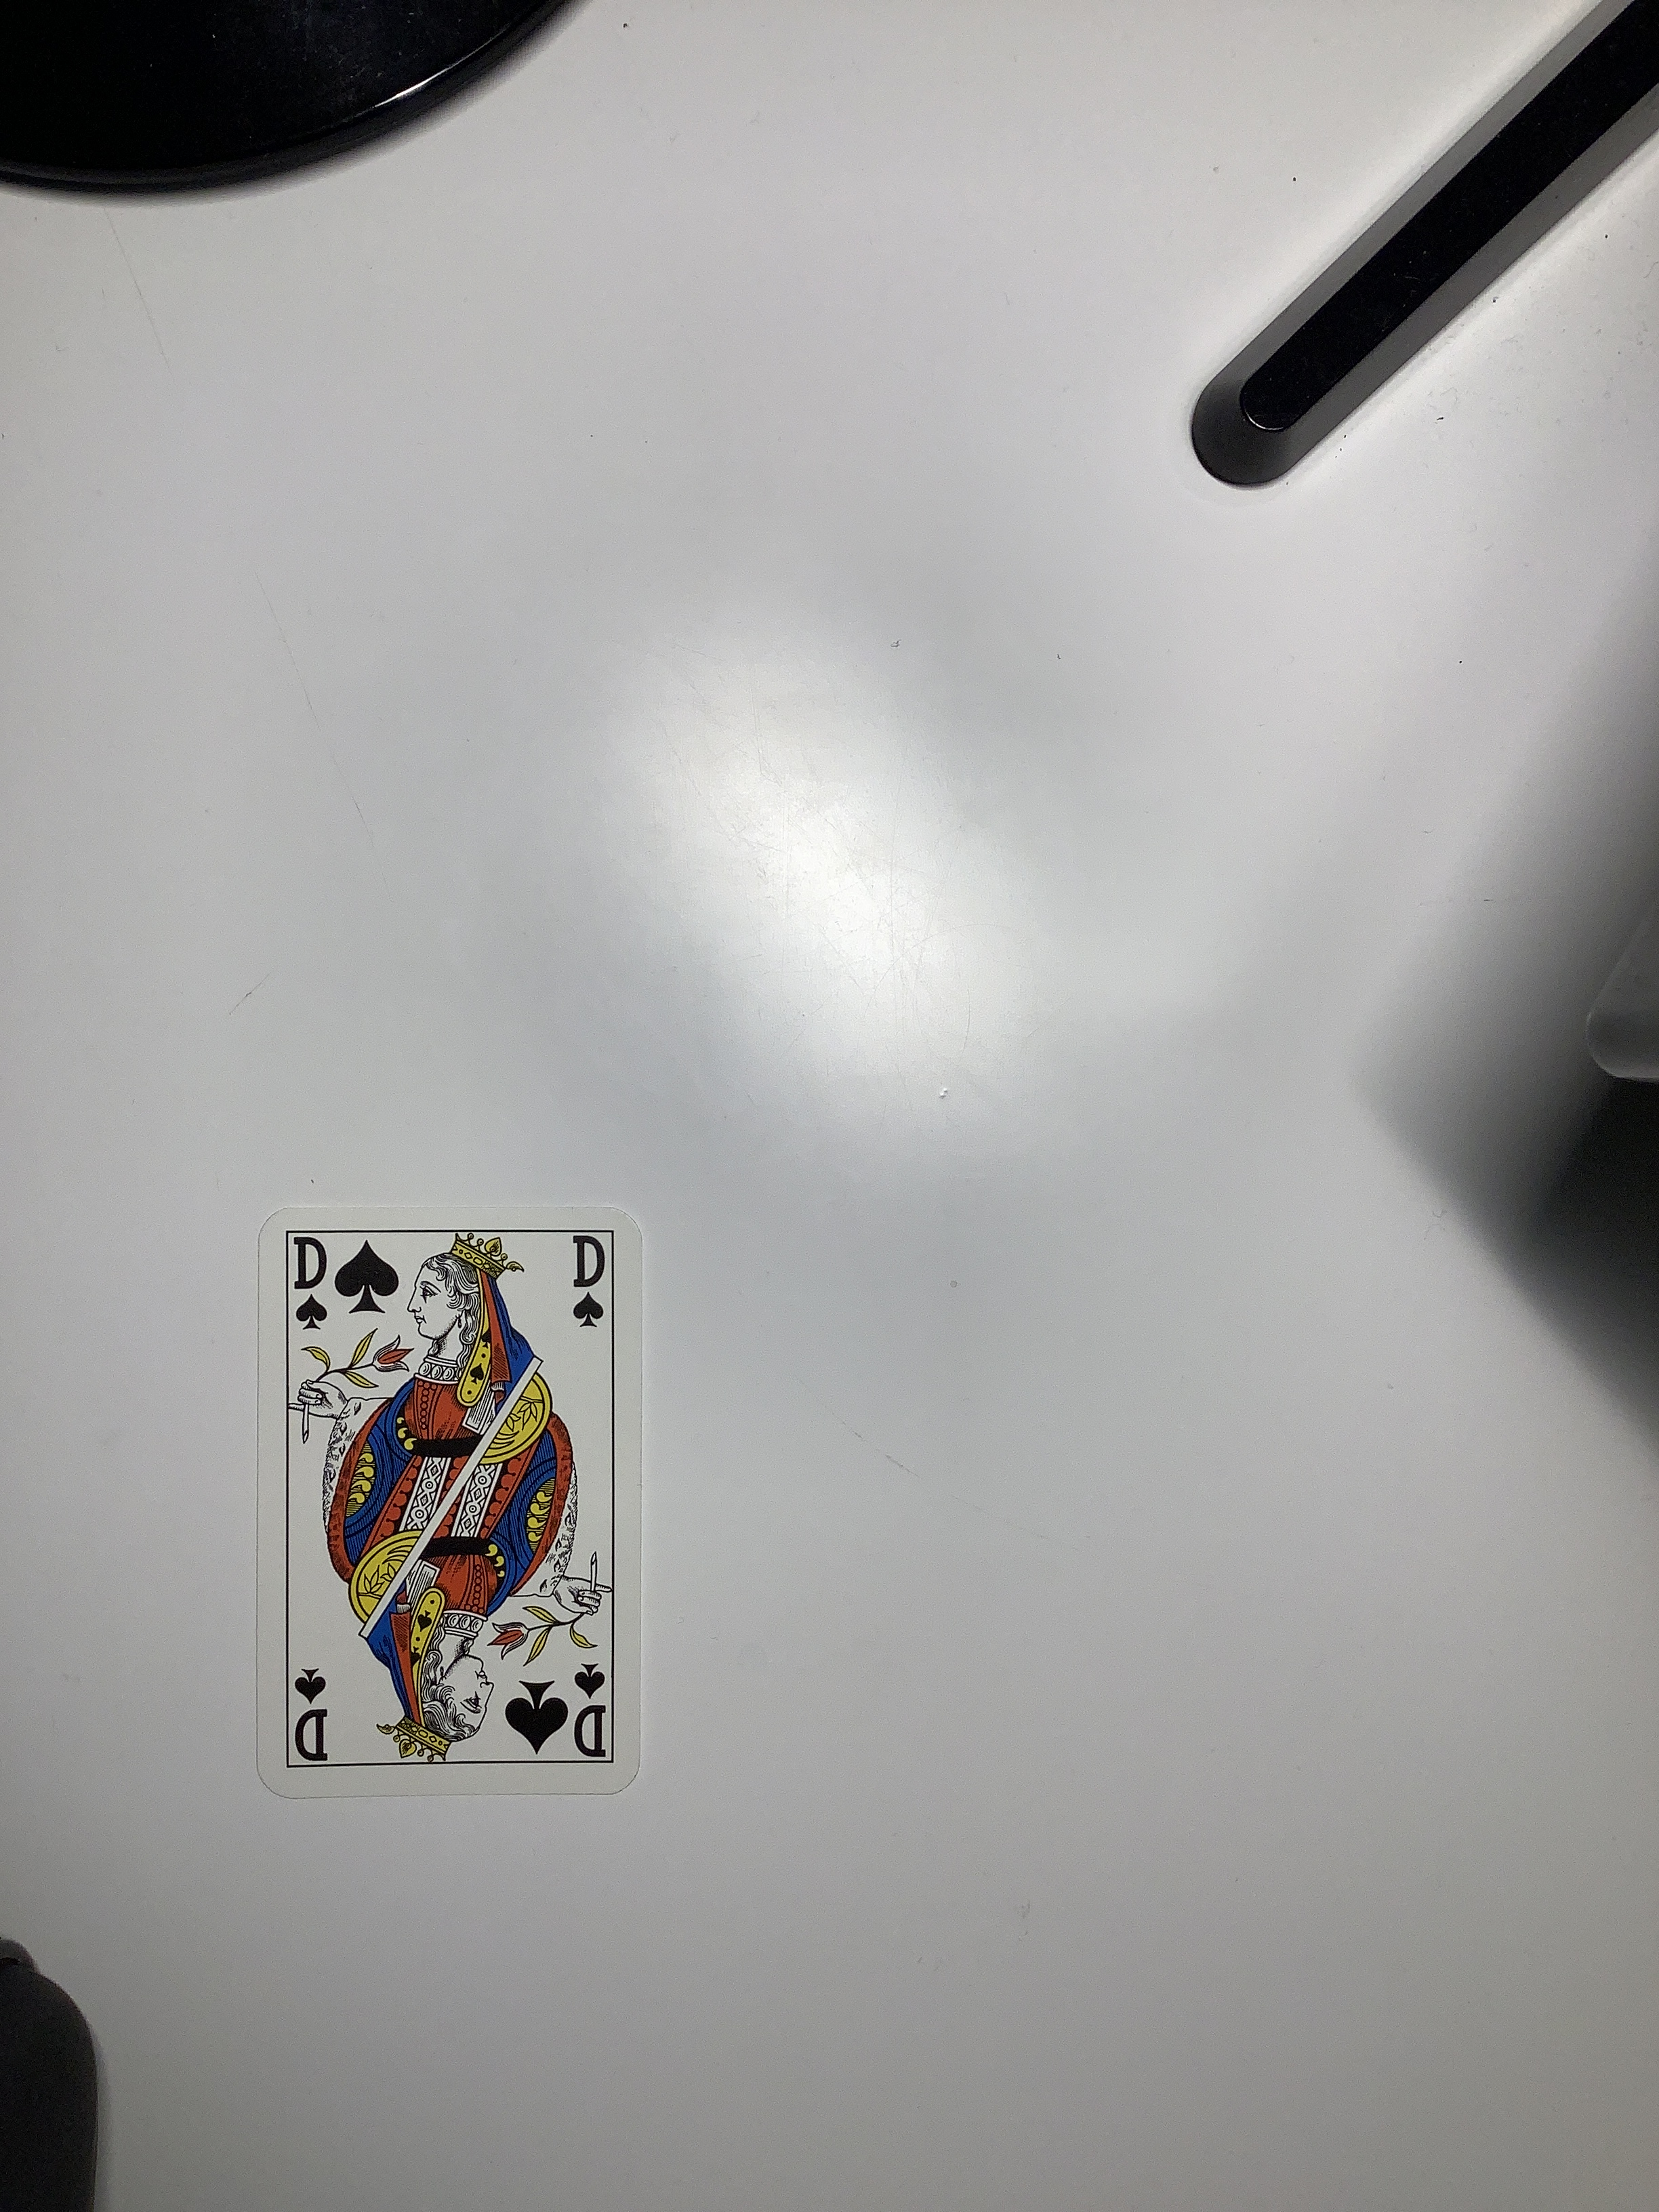♠ Q: (239, 1191, 666, 1817)
